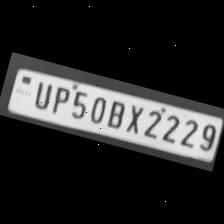0: (84, 90, 110, 126)
2: (137, 104, 164, 140), (174, 114, 200, 150), (157, 110, 183, 145)
5: (64, 86, 92, 122)
9: (194, 118, 220, 154)
B: (103, 96, 130, 130)
P: (46, 82, 73, 116)
U: (28, 77, 56, 112)
X: (122, 100, 146, 136)
